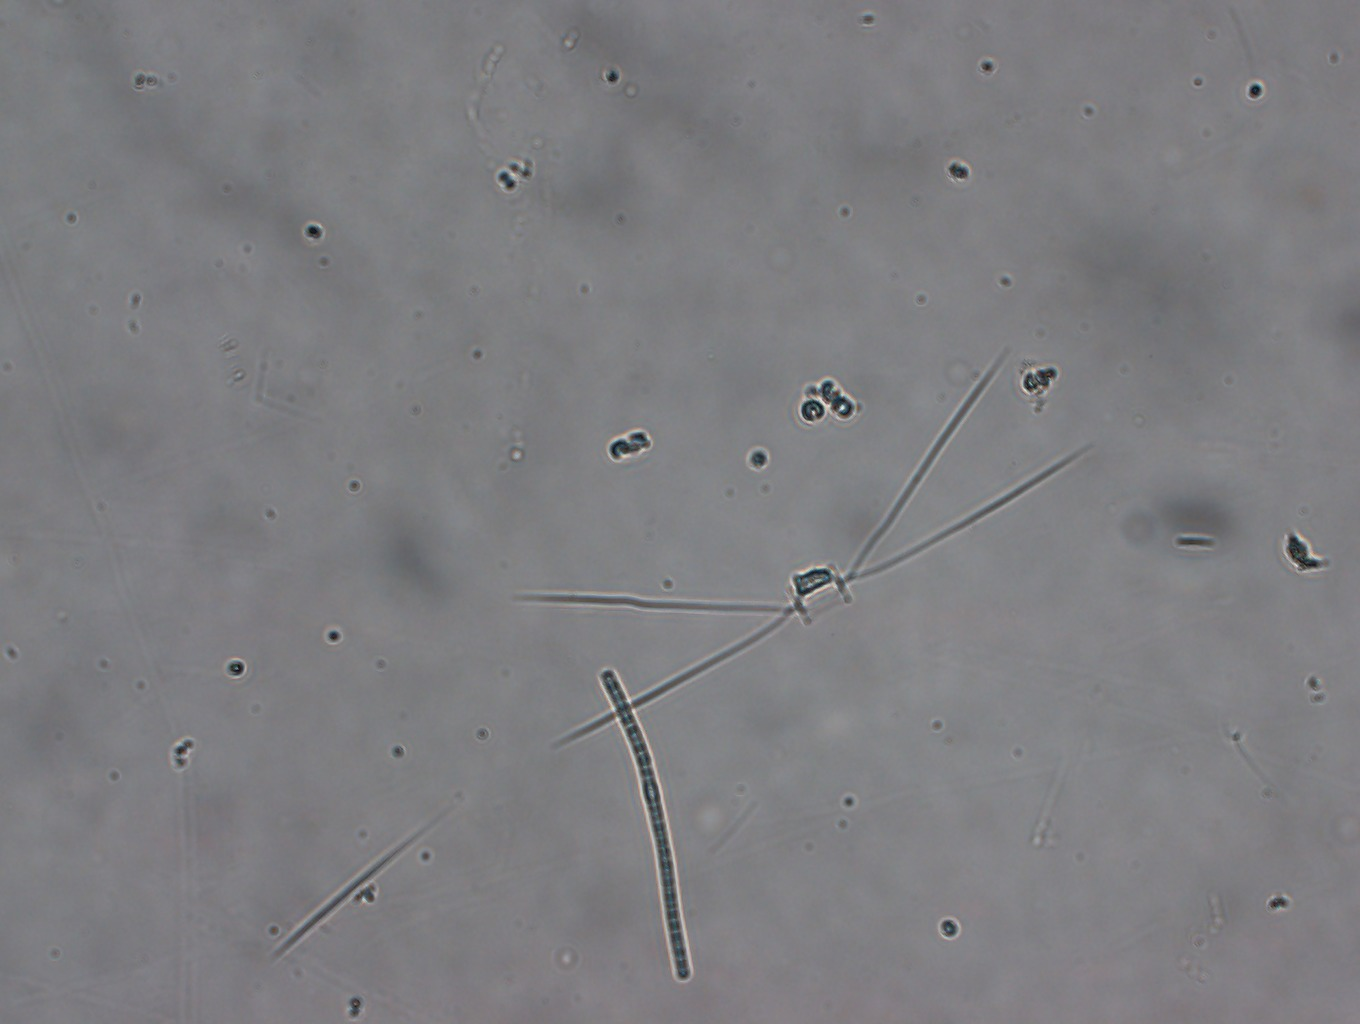chaetoceros: (514, 344, 1094, 749)
